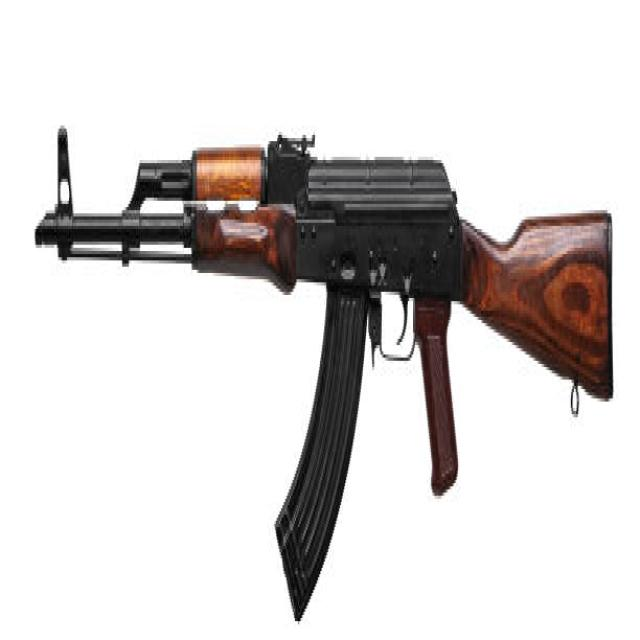rifle: (33, 102, 623, 637)
